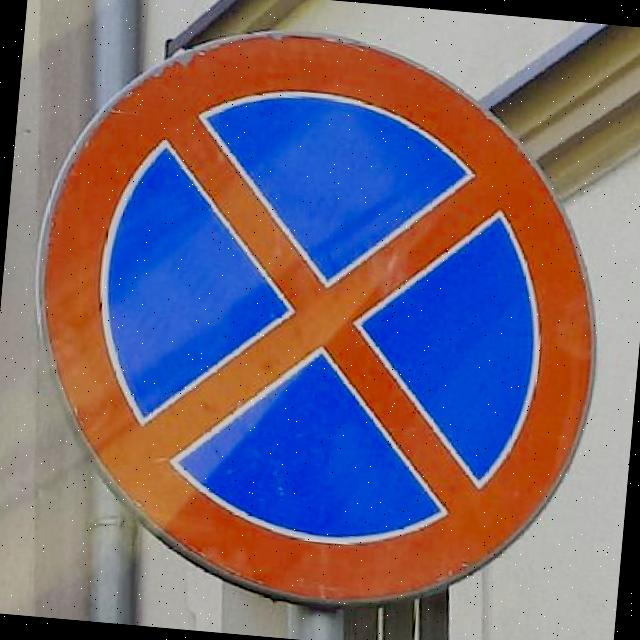Zakaz zatrzymywania sie: (6, 7, 623, 630)
